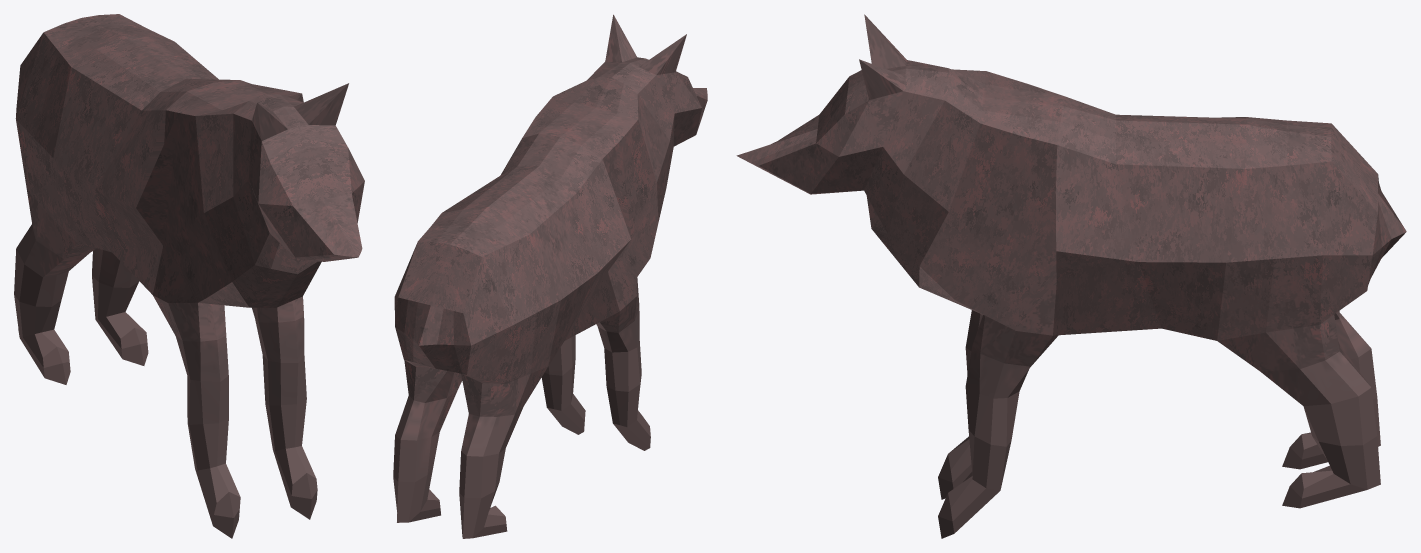
File: piesblendtex_000004.obj
3 views of the same model, side by side, from view 1: azimuth 30°, elevation 25°; view 2: azimuth 150°, elevation 25°; view 3: azimuth 270°, elevation 25° (orthographic). The views are drawn at different scales.
Parts seen in each view (by area): view 1: Cube; view 2: Cube; view 3: Cube.
Boxes of the visible parts, bbox=[...] form: Cube: bbox=[14, 14, 364, 538]; Cube: bbox=[393, 14, 707, 538]; Cube: bbox=[736, 14, 1406, 538].
Size of the model in its own units: 2.56 by 7.19 by 9.11.
